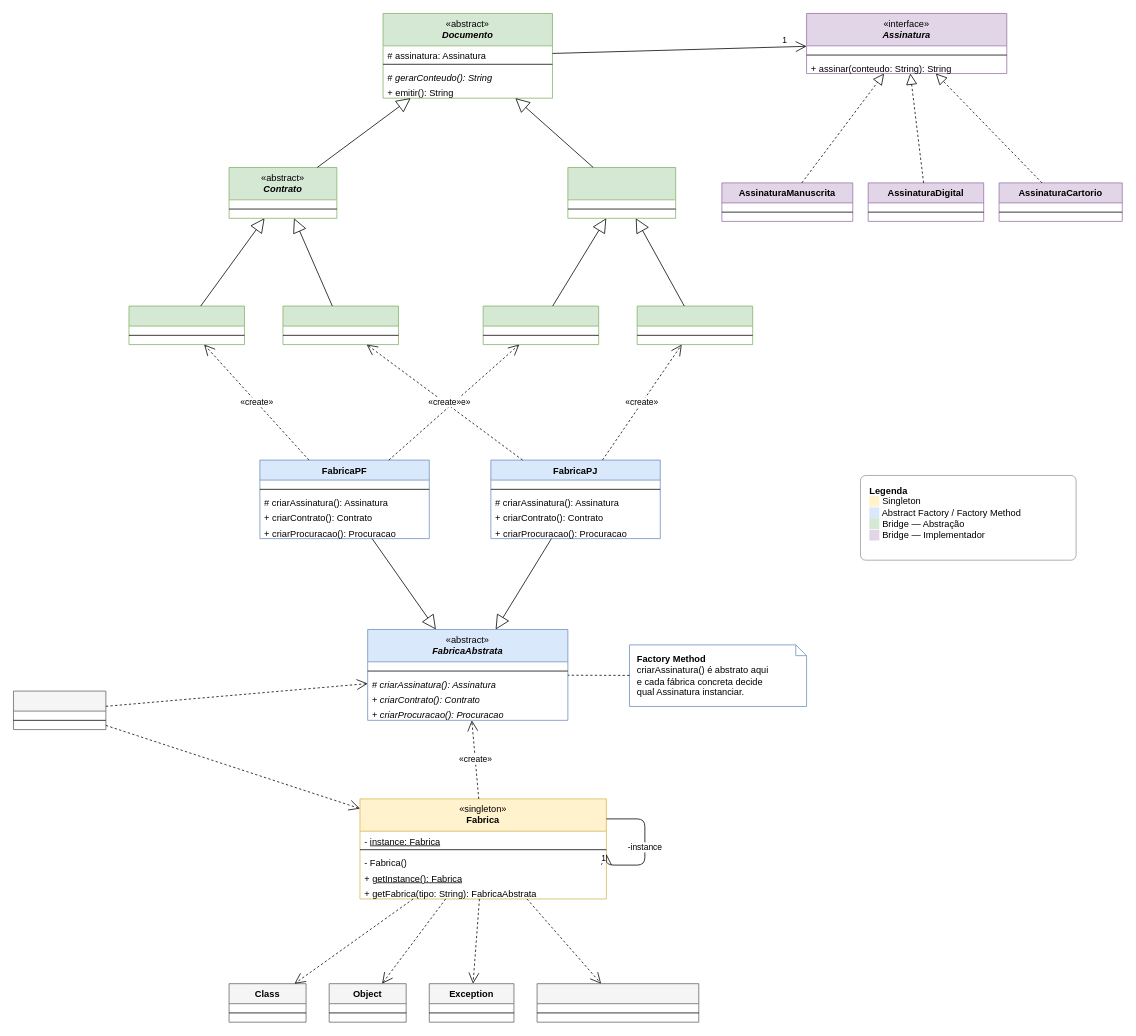
Image size: 1136x1036. Some labels were removed from this diagram. Here are the shapes that lost their labels. From the top down, the centre of each, then its label:
At [621,192]: "«abstract» Procuracao".
At [186,325]: "ContratoPF".
At [340,325]: "ContratoPJ".
At [540,325]: "ProcuracaoPF".
At [694,325]: "ProcuracaoPJ".
At [59,710]: "Cliente".
At [617,1002]: "IllegalArgumentException".
